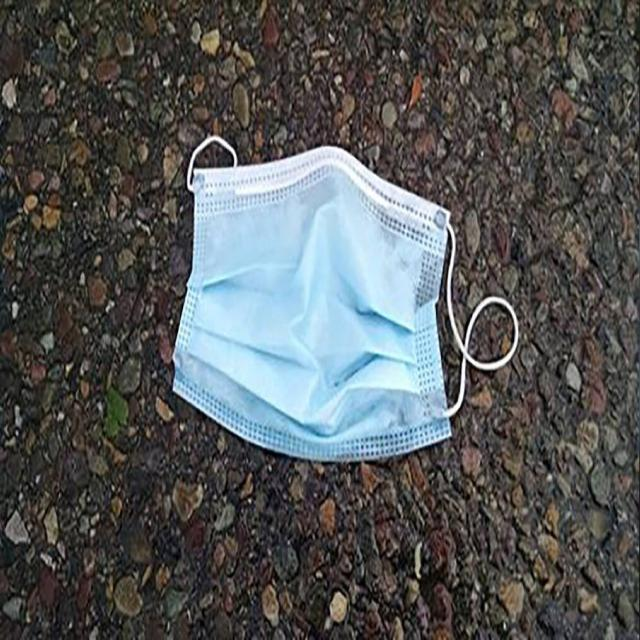non-organic waste: (168, 136, 517, 464)
